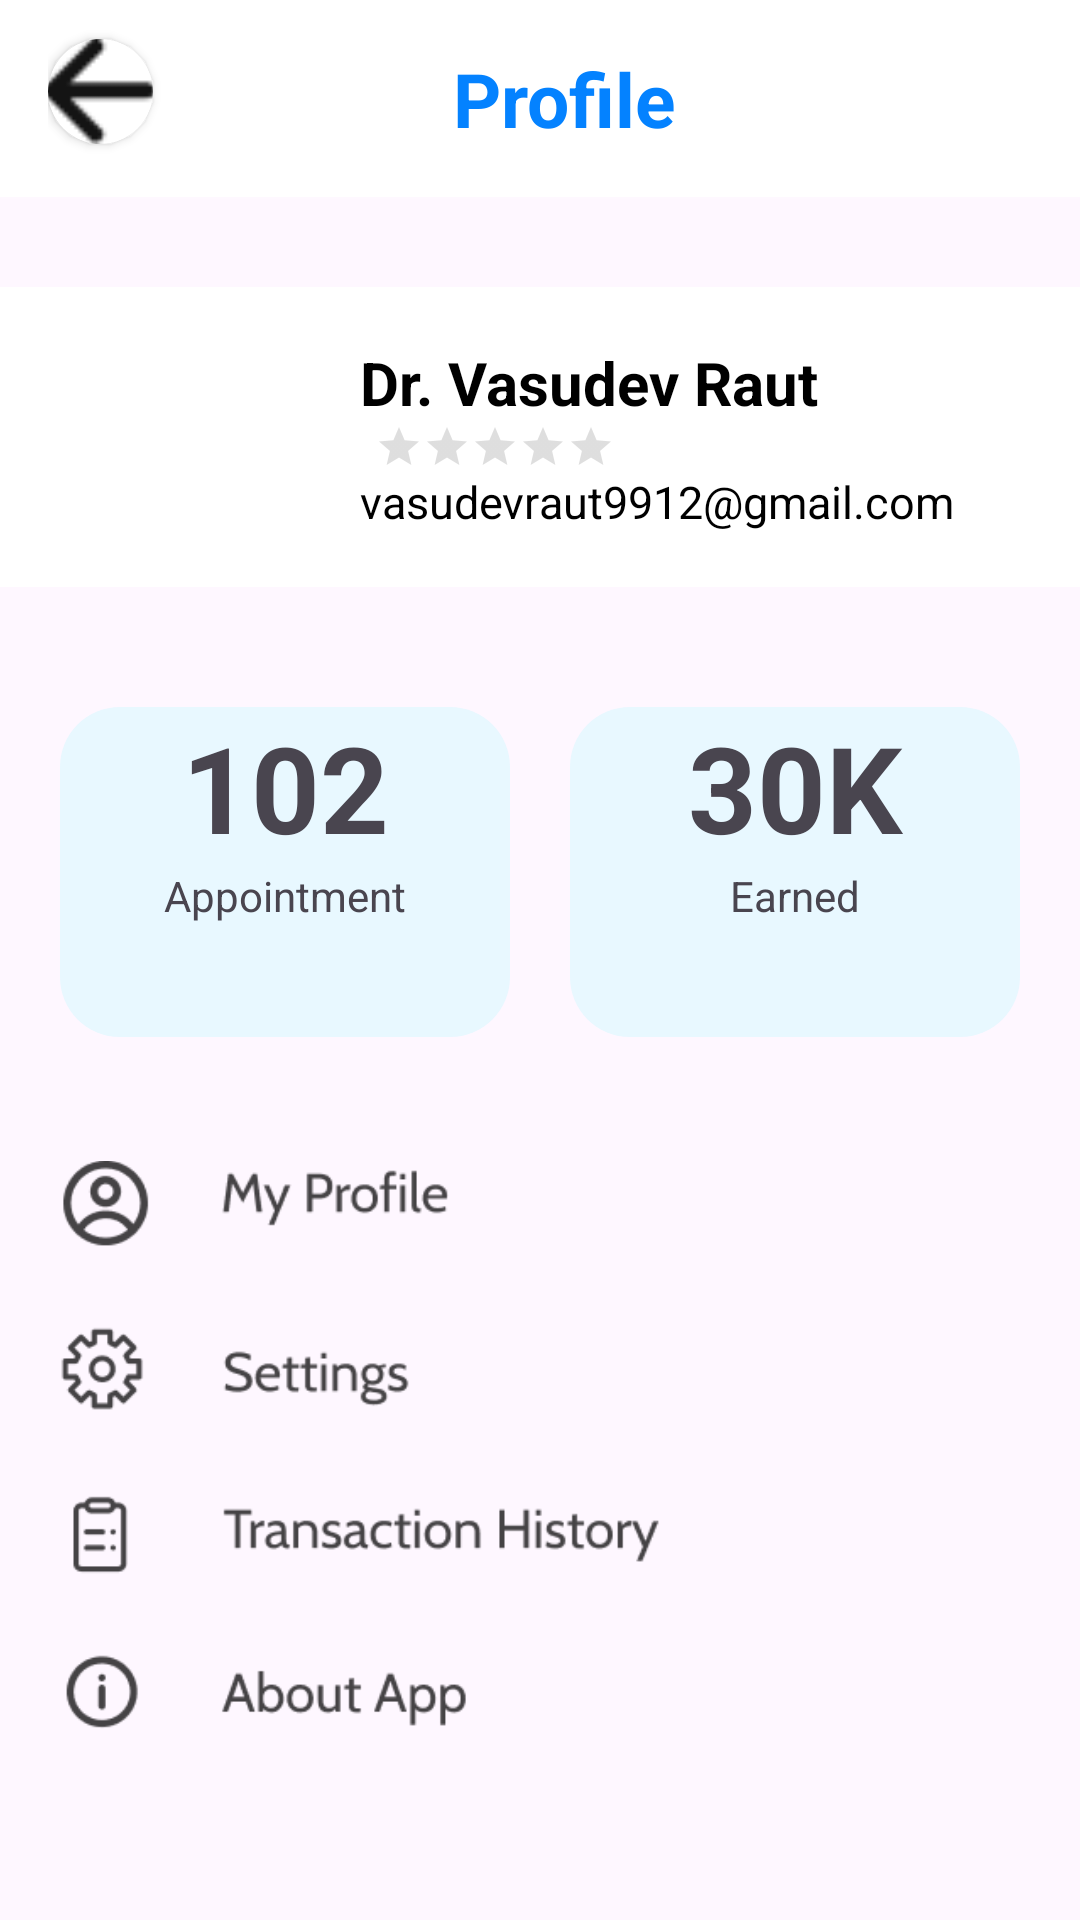

Icons on this 1080px x 1920px Android screen, each with the point to tap as (x,y):
backbutton: (100,91)
